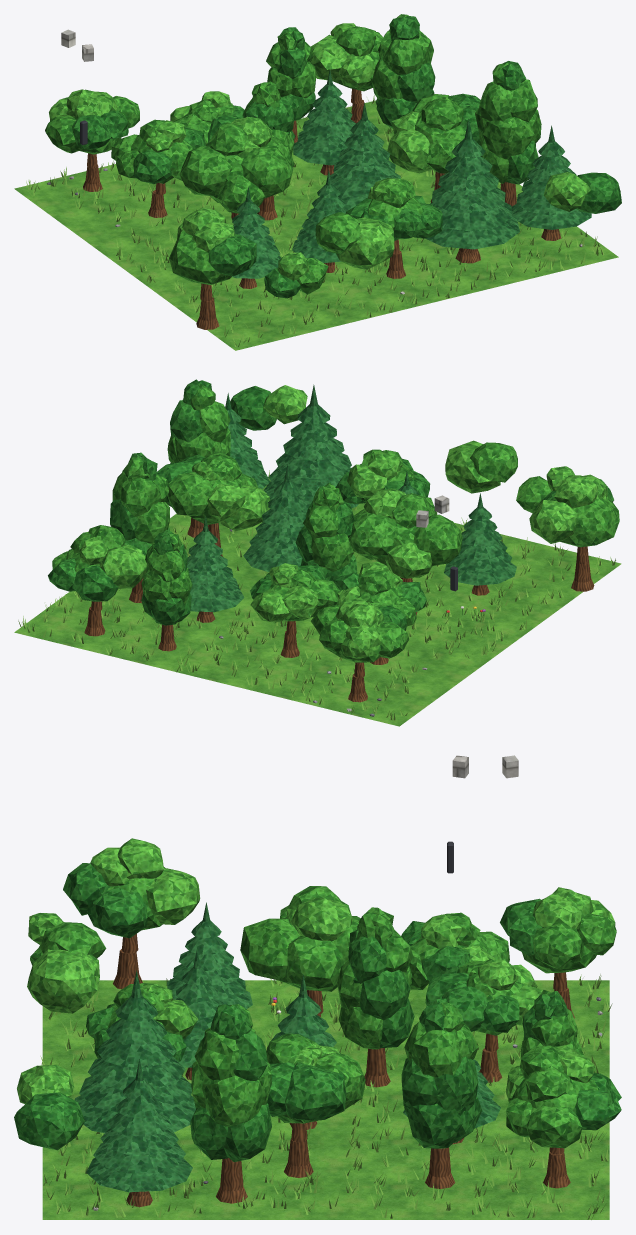
The model's file is chunk_3_0.glb.
3 renders of one model, top to bottom at view 1: azimuth 30°, elevation 25°; view 2: azimuth 150°, elevation 25°; view 3: azimuth 270°, elevation 25°, orthographic. The views are drawn at different scales.
Parts seen in each view (by area): view 1: chunk_3_0; view 2: chunk_3_0; view 3: chunk_3_0.
Boxes of the visible parts, box(x1,y1,x2,y2) form: chunk_3_0: box(14, 14, 621, 350); chunk_3_0: box(14, 379, 621, 726); chunk_3_0: box(14, 755, 621, 1219).
Bounding box in the file's own units: 17.4 × 7.25 × 17.15.
16 materials, 10 textured.
